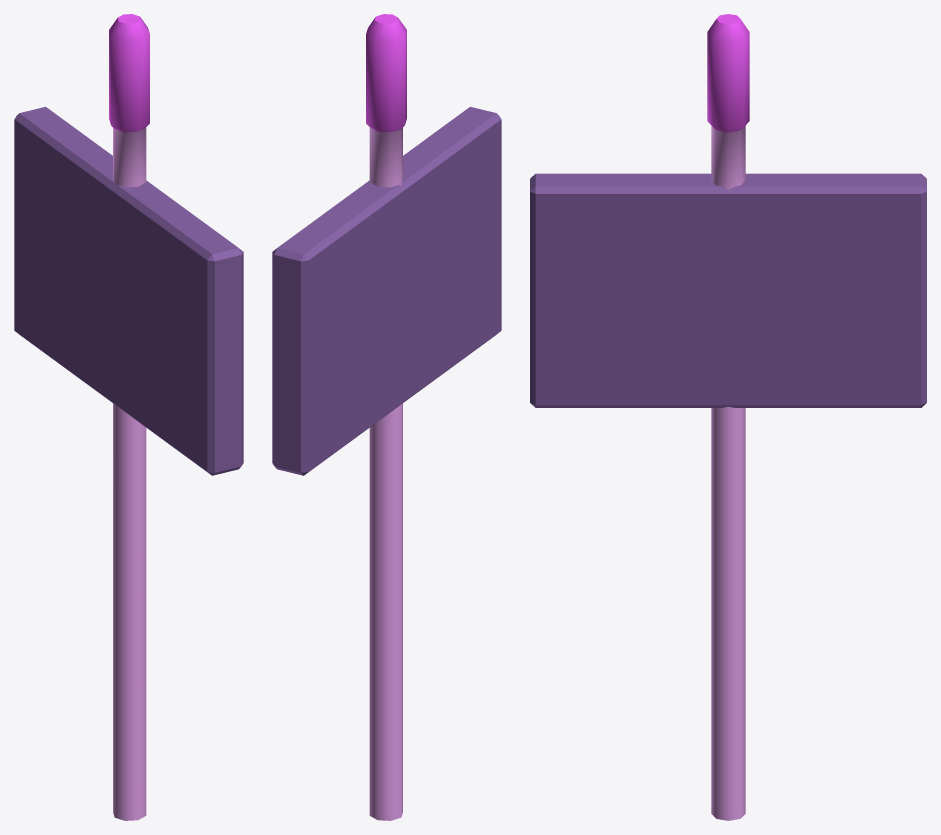
The model's file is SimpleSign.fbx.
3 renders of one model, left to right at view 1: azimuth 30°, elevation 25°; view 2: azimuth 150°, elevation 25°; view 3: azimuth 270°, elevation 25°, orthographic.
Parts seen in each view (by area): view 1: SimpleSign_LOD0; view 2: SimpleSign_LOD0; view 3: SimpleSign_LOD0.
Boxes of the visible parts, left/top/right/bottom form: SimpleSign_LOD0: left=14, top=14, right=243, bottom=820; SimpleSign_LOD0: left=272, top=14, right=501, bottom=820; SimpleSign_LOD0: left=530, top=14, right=926, bottom=820.
Size of what is drawn, in the model's own units: 8.28 by 170 by 76.83.
